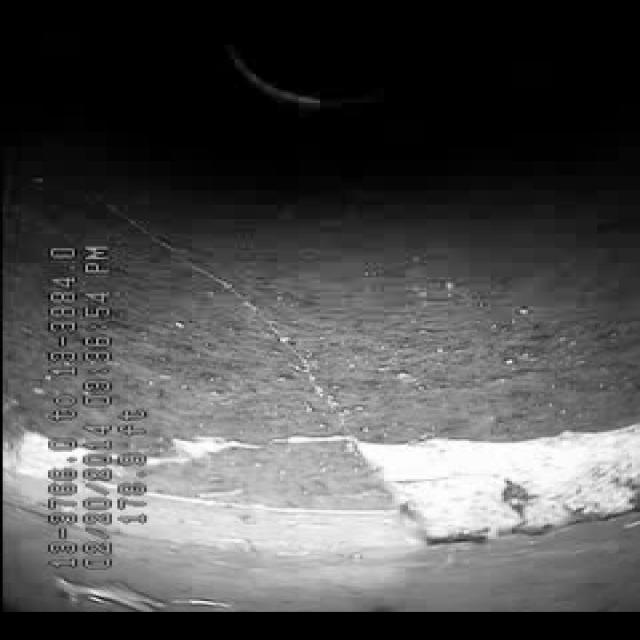Crack: (154, 247, 356, 414)
